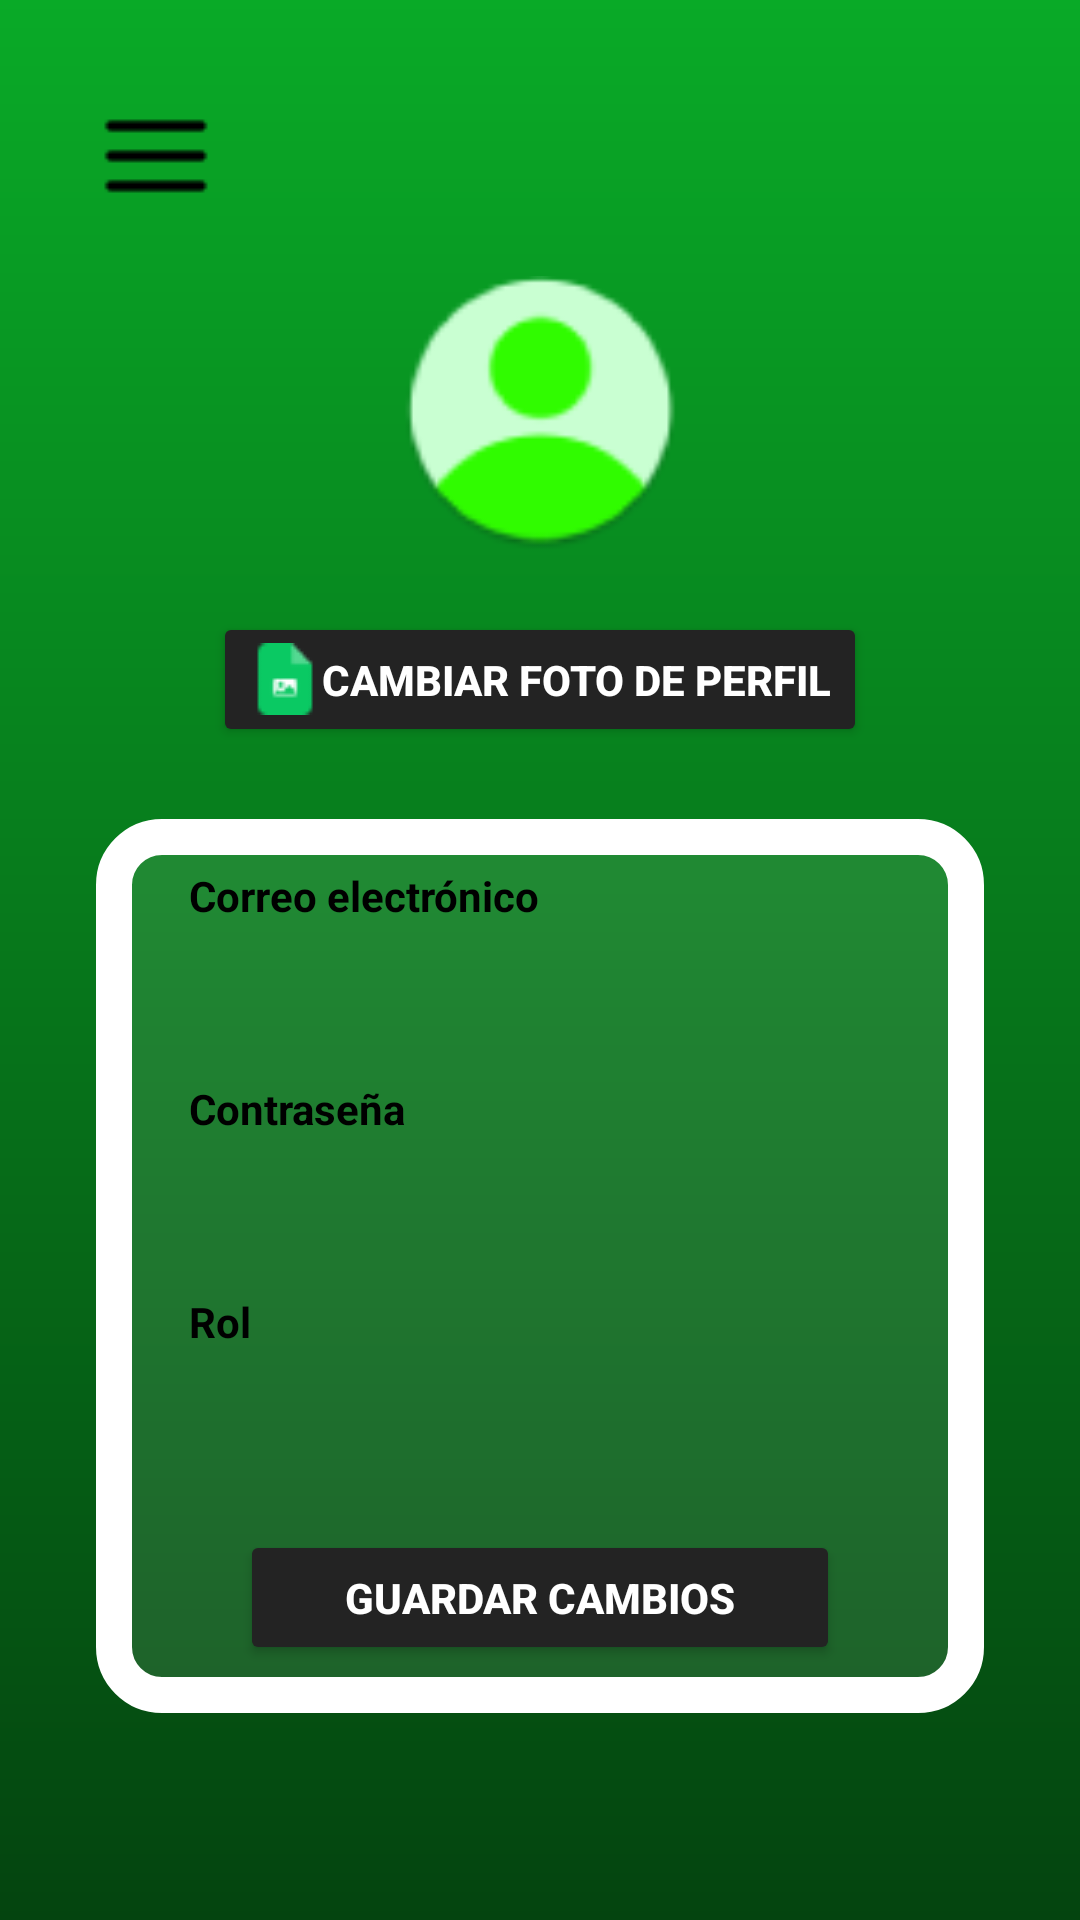

Icons on this 1080x1920 Android screen, each with the point to tap as [x,y]:
Menú: [156,156]
